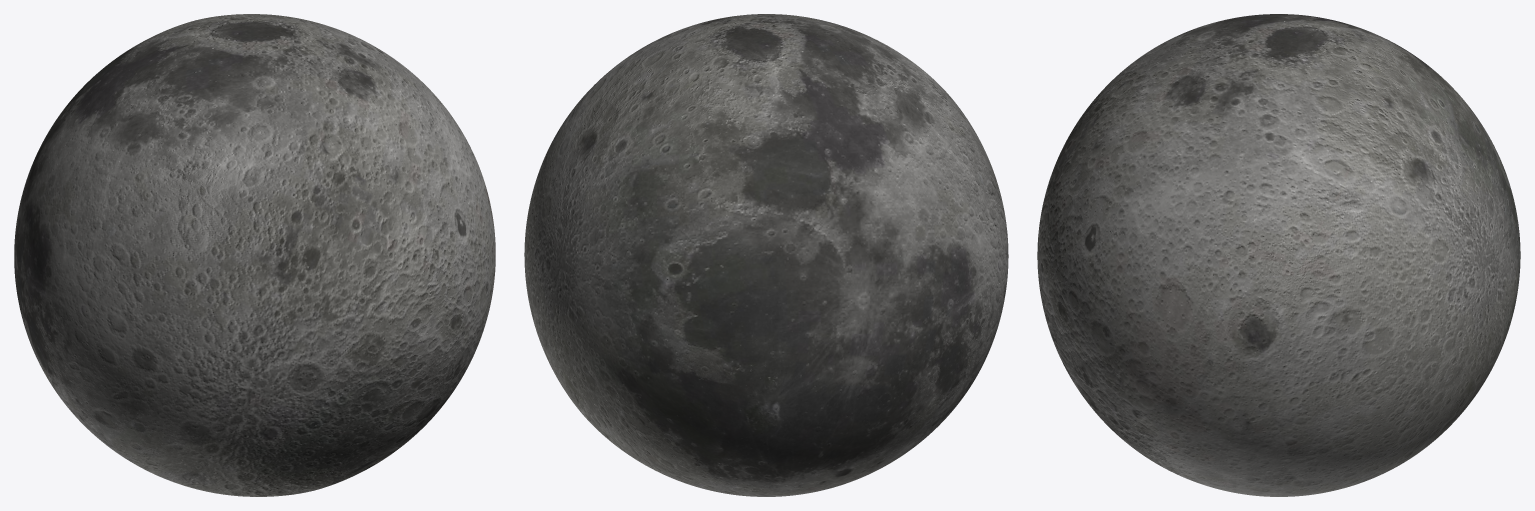
The model's file is moon.glb.
The picture shows the model from 3 angles, left to right: view 1: azimuth 30°, elevation 25°; view 2: azimuth 150°, elevation 25°; view 3: azimuth 270°, elevation 25°; orthographic projection.
Parts seen in each view (by area): view 1: Moon_Cube.002; view 2: Moon_Cube.002; view 3: Moon_Cube.002.
Part boxes in pixels (x1,y1,x2,y2): Moon_Cube.002: (14,14,495,496); Moon_Cube.002: (524,14,1008,496); Moon_Cube.002: (1037,14,1520,496).
Size of the model in its own units: 3.46 by 3.45 by 3.45.
1 material, 1 textured.
